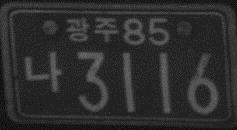1: (119, 50, 139, 113), (156, 49, 174, 115)
3: (75, 50, 109, 112)
5: (147, 15, 169, 46)
6: (186, 48, 220, 116)
8: (123, 16, 145, 46)
광주_O: (65, 15, 119, 41)
나: (23, 49, 62, 93)
